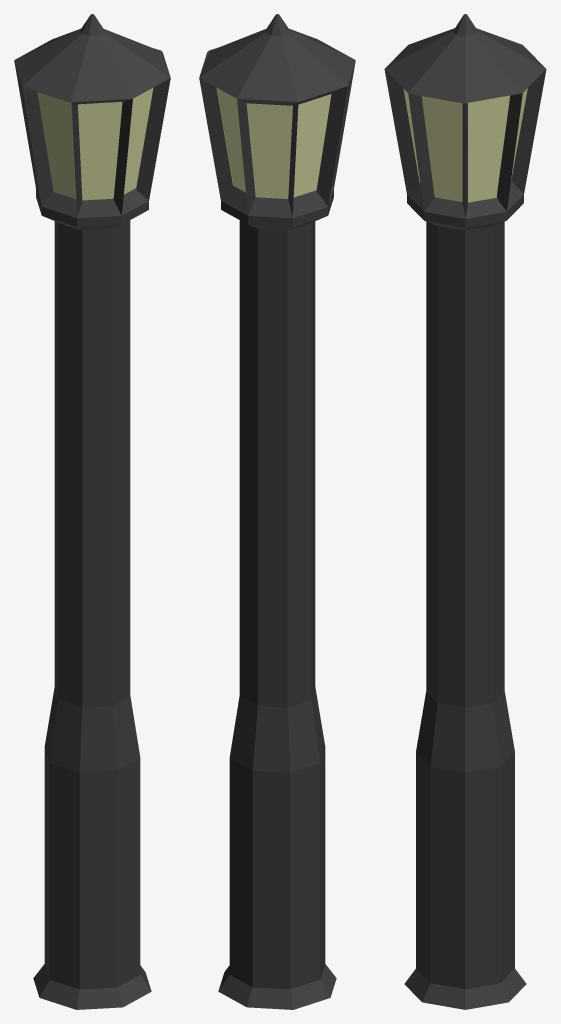
The model's file is street lamp2.fbx.
3 views of the same model, side by side, from view 1: azimuth 30°, elevation 25°; view 2: azimuth 150°, elevation 25°; view 3: azimuth 270°, elevation 25° (orthographic).
Parts seen in each view (by area): view 1: 円柱; view 2: 円柱; view 3: 円柱.
Part boxes in pixels (box(x1,y1,x2,y2)): 円柱: box(14, 14, 170, 1009); 円柱: box(199, 14, 355, 1009); 円柱: box(384, 14, 546, 1009).
Size of the model in its own units: 17.96 by 119 by 17.96.
